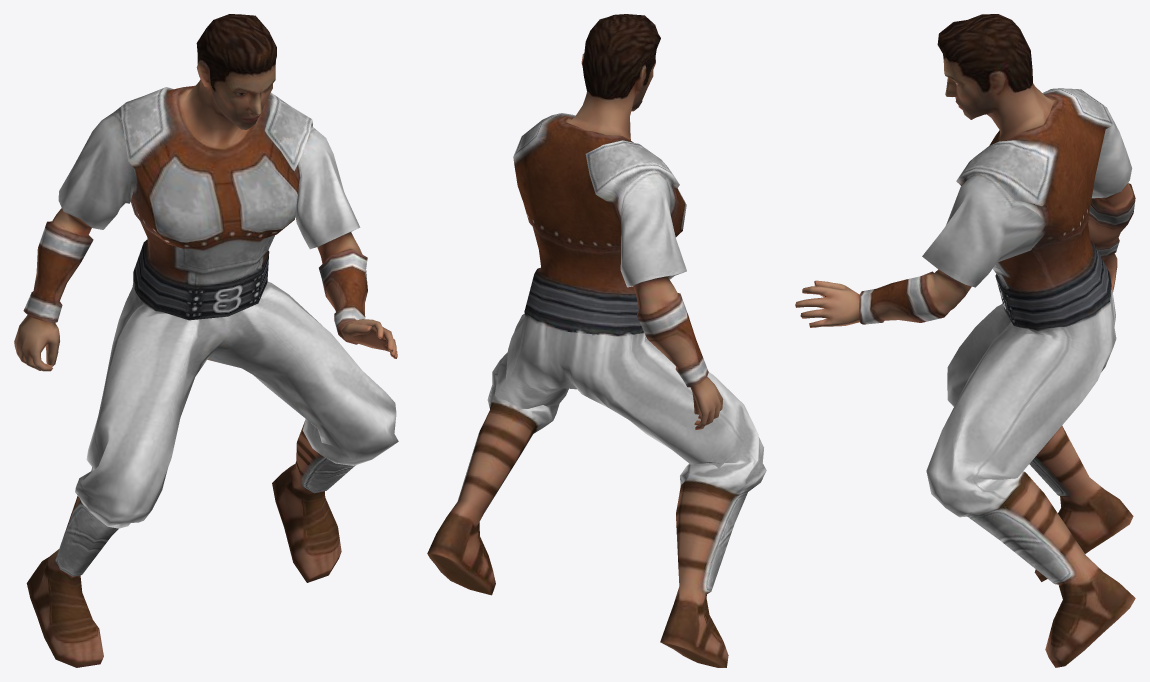
File: rider-slice-mediumarchers.glb
3 views of the same model, side by side, from view 1: azimuth 30°, elevation 25°; view 2: azimuth 150°, elevation 25°; view 3: azimuth 270°, elevation 25° (orthographic). The views are drawn at different scales.
Size of the model in its own units: 0.9623 by 1.93 by 0.965.
1 material, 1 textured.
